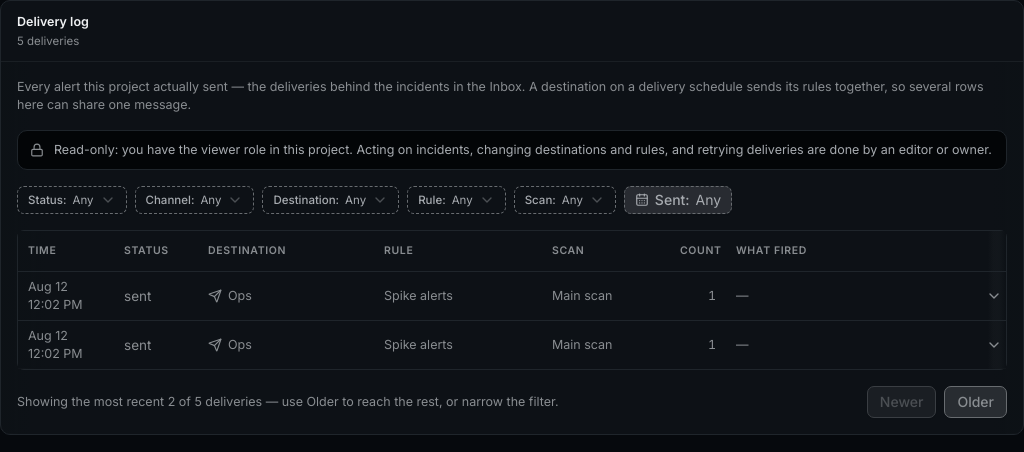
AlertAuditPanel paging › reaches the older deliveries and says where the reader now is
Click the button "Older". click: [976, 402]
box: 944,386 -> 1007,418
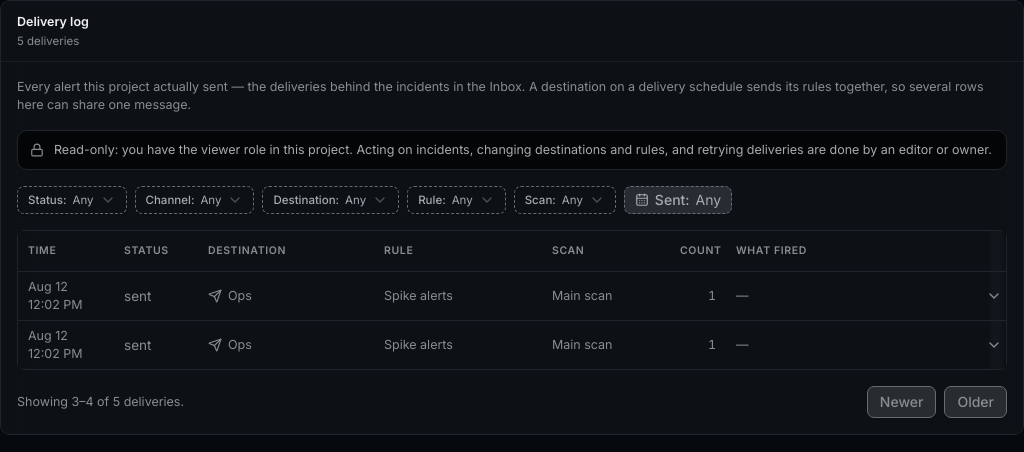
Expected: the text "Showing 3–4 of 5 deliveries." is shown, 17,392 -> 184,410
